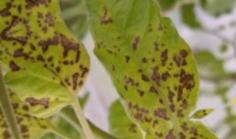Tomato leaf bacterial spot: (75, 0, 236, 139), (0, 9, 109, 127)
